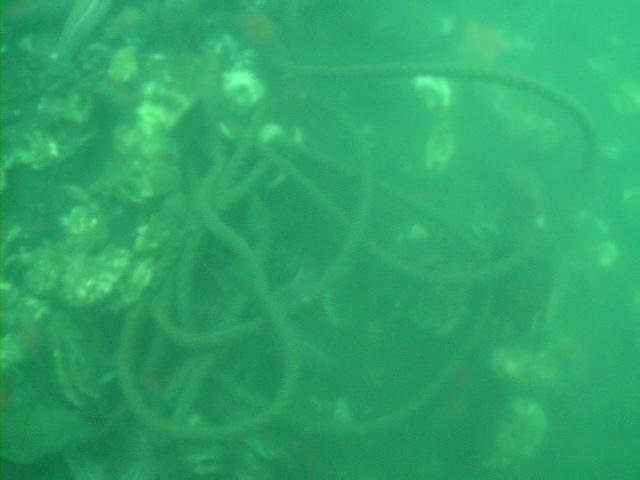bundle of ropes: (62, 53, 602, 448)
